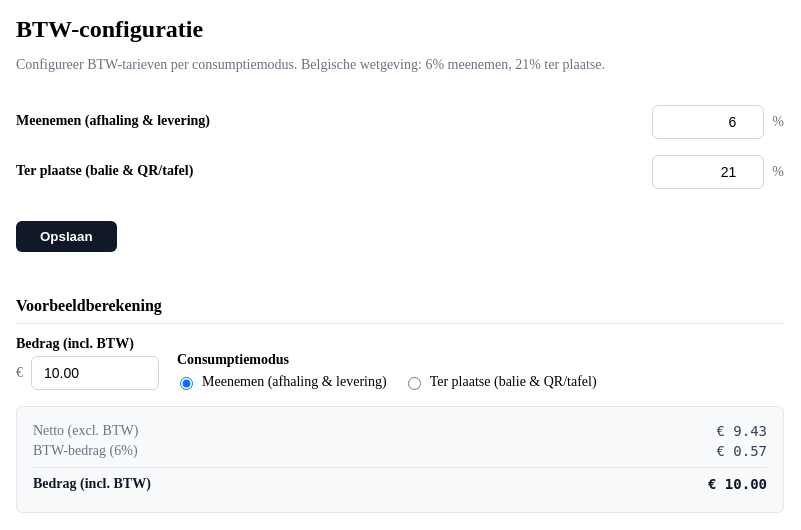
Test case: TaxConfiguration › entering a gross amount displays the VAT breakdown result
Expected: the heading "BTW-configuratie" is shown, x1=16 y1=16 x2=203 y2=42
Expected: the text "Netto (excl. BTW)" is shown, x1=33 y1=423 x2=138 y2=439
Replace the text in the number field with id "calc-gross" with "21": (95, 373) x1=31 y1=356 x2=159 y2=390
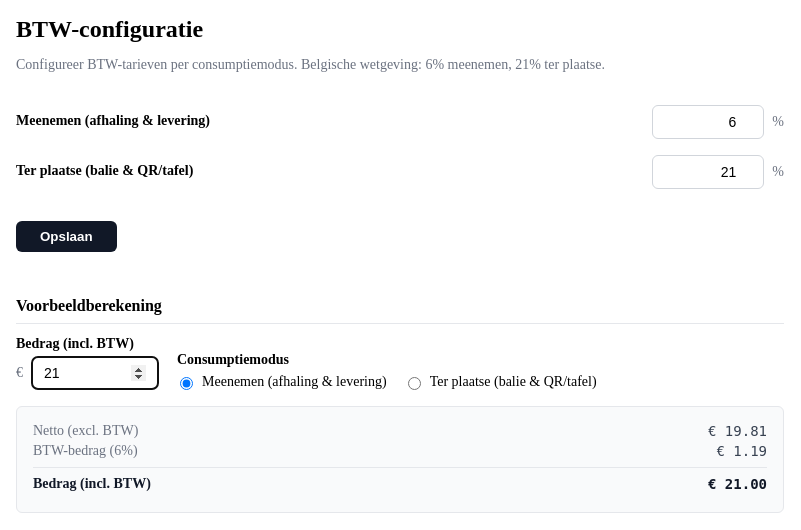
Now the text "€ 21.00" is shown, box x1=708 y1=476 x2=767 y2=492
